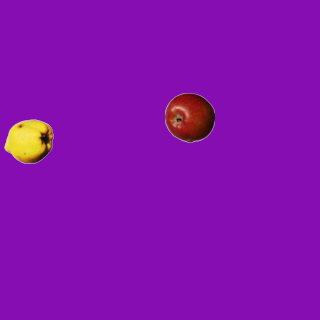Apple Braeburn: (164, 92, 214, 142)
Quince: (3, 116, 53, 166)
